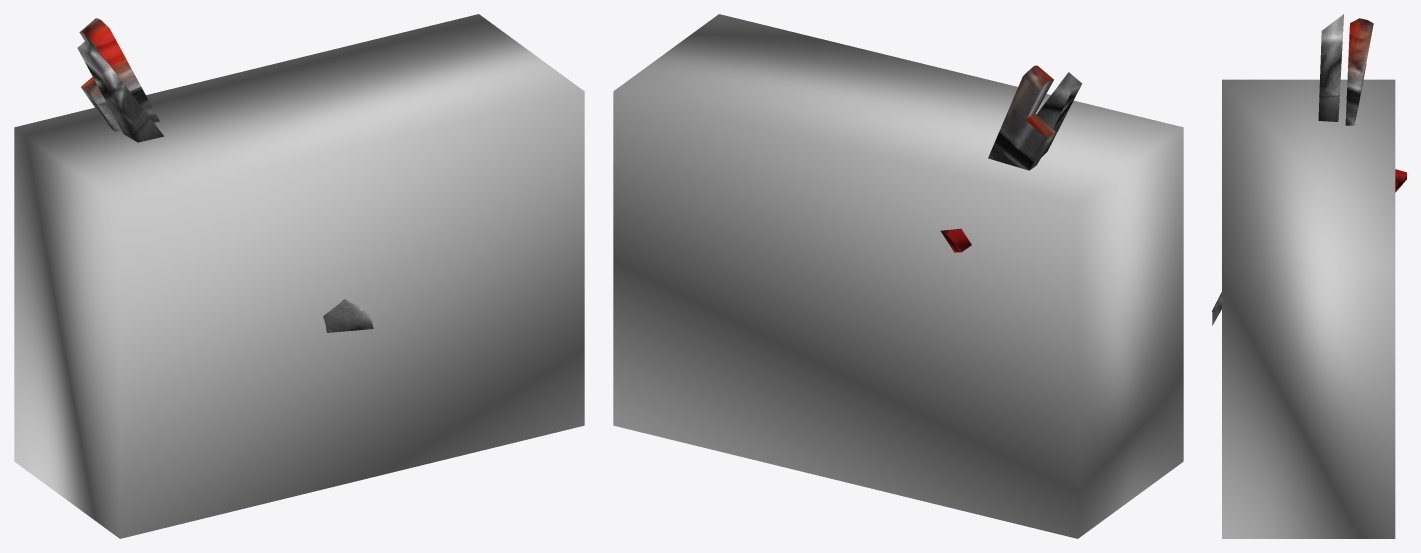
Rendered from transport_ship_detached_wing.fbx.
3 views of the same model, side by side, from view 1: azimuth 30°, elevation 25°; view 2: azimuth 150°, elevation 25°; view 3: azimuth 270°, elevation 25° (orthographic). The views are drawn at different scales.
Parts seen in each view (by area): view 1: 0000_transport_ship_detached_wing, 0001_transport_ship_detached_wing; view 2: 0000_transport_ship_detached_wing, 0001_transport_ship_detached_wing; view 3: 0000_transport_ship_detached_wing, 0001_transport_ship_detached_wing.
Boxes of the visible parts, x1,y1,x2,y2 form: 0000_transport_ship_detached_wing: (14, 14, 584, 538); 0001_transport_ship_detached_wing: (77, 18, 373, 332); 0000_transport_ship_detached_wing: (613, 14, 1183, 538); 0001_transport_ship_detached_wing: (940, 65, 1082, 252); 0000_transport_ship_detached_wing: (1222, 79, 1395, 538); 0001_transport_ship_detached_wing: (1212, 14, 1406, 325).
Size of the model in its own units: 14.11 by 12.8 by 6.25.
